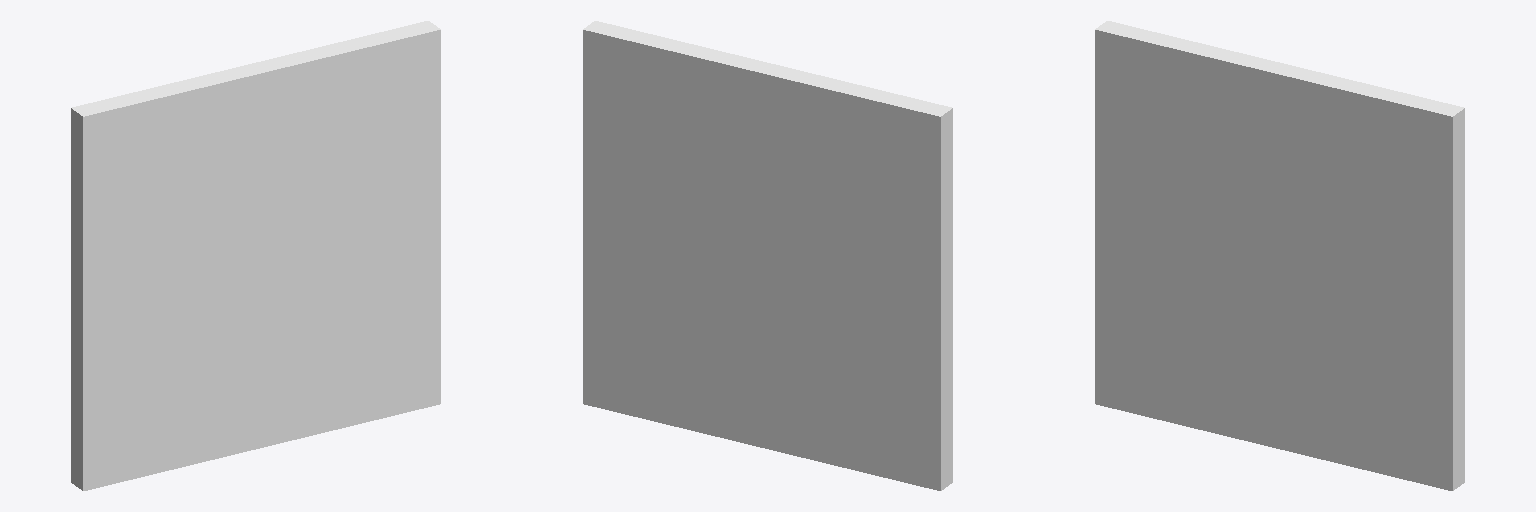
URDF robot description (mur2.urdf):
<?xml version="0.0" ?>
<robot name="mur2.urdf">
  <link name="baseLink">
    <contact>
      <lateral_friction value="1.0"/>
    </contact>
    <inertial>
      <origin rpy="0 0 0" xyz="0 0 0"/>
       <mass value=".0"/>
       <inertia ixx="1" ixy="0" ixz="0" iyy="1" iyz="0" izz="1"/>
    </inertial>
    <visual>
      <origin rpy="1.57 0 0" xyz="0 0 0.6"/>
      <geometry>
				<mesh filename="tableau2.obj" scale="0.5 0.5 0.03"/>
      </geometry>
       <material name="white">
        <color rgba="1 1 1 1"/>
      </material>
    </visual>
    <collision>
      <origin rpy="0 0 0" xyz="0 0 0.6"/>
      <geometry>
	 	<box size="1.5 1 0.05"/>
      </geometry>
    </collision>
	<visual>
      <origin rpy="0 0 0" xyz="-0.65 -0.4 0.29"/>
      <geometry>
	    <mesh filename="StylishDesk.obj" scale="0.0001 0.0001 0.00058"/>
      </geometry>
	  <material name="framemat0"/>	 
    </visual>
    <visual>
      <origin rpy="0 0 0" xyz="-0.65 0.4 0.29"/>
      <geometry>
        <mesh filename="StylishDesk.obj" scale="0.0001 0.0001 0.00058"/>
      </geometry>
	  <material name="framemat0"/>
	  </visual>
    <visual>
      <origin rpy="0 0 0" xyz="0.65 -0.4 0.29"/>
      <geometry>
        <mesh filename="StylishDesk.obj" scale="0.0001 0.0001 0.00058"/>
      </geometry>
	  <material name="framemat0"/>
	  </visual>
    <visual>
      <origin rpy="0 0 0" xyz="0.65 0.4 0.29"/>
      <geometry>
        <mesh filename="StylishDesk.obj" scale="0.0001 0.0001 0.00058"/>
      </geometry>
    </visual>
  </link>
</robot>

--- Facts derived from the render (not from the file) ---
Views: 3 orthographic renders of the robot side by side, from view 1: azimuth 30°, elevation 25°; view 2: azimuth 150°, elevation 25°; view 3: azimuth 330°, elevation 25°.
Model mur2.urdf with 1 links and 0 joints (none), rooted at baseLink, posed every joint at zero.
Links seen in each view (by area): view 1: baseLink; view 2: baseLink; view 3: baseLink.
Boxes of the visible links, box(x1,y1,x2,y2) form: baseLink: box(71, 21, 440, 490); baseLink: box(583, 21, 952, 490); baseLink: box(1095, 21, 1464, 490).
Bounding box of the posed robot: 0.5 × 0.0304 × 0.5 m (x, y, z).
1 mesh visuals loaded from 2 distinct referenced files (1 OBJ); not drawn: 4 (reference not matched to a file when rendering).